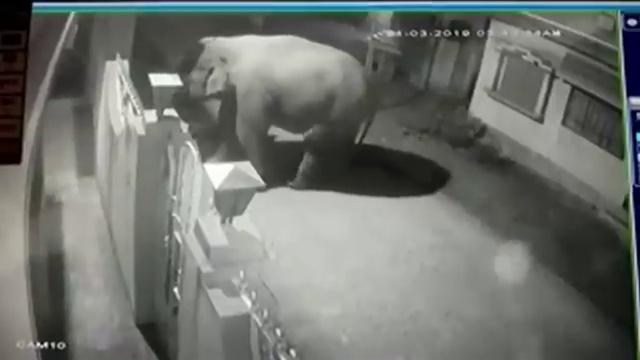Elephant: (181, 35, 376, 191)
